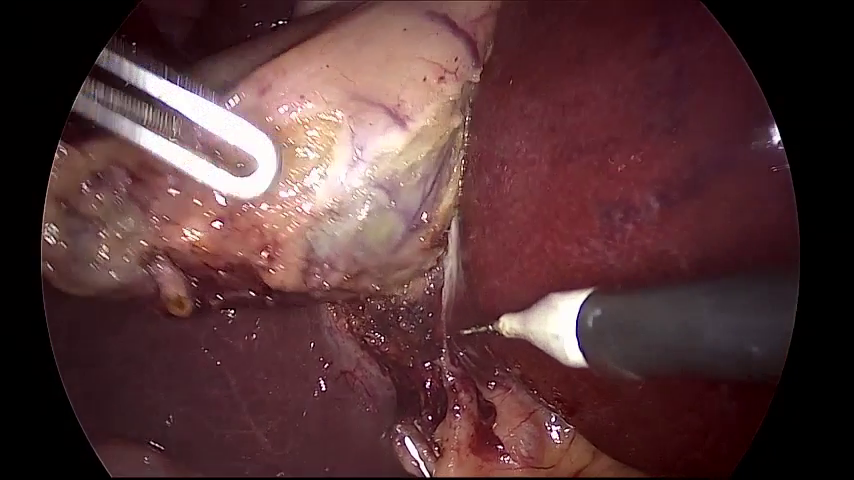grasper: (71, 47, 277, 187)
lhook: (460, 256, 799, 386)
